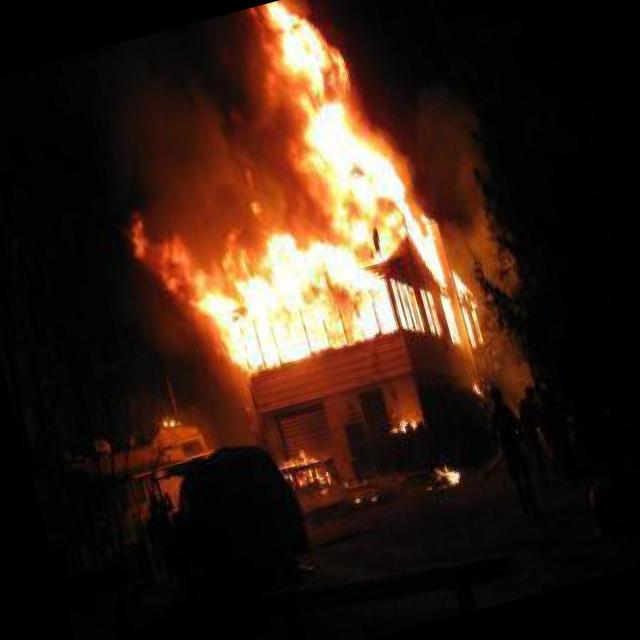Fire: (116, 0, 467, 391), (276, 443, 338, 506), (384, 404, 423, 444), (433, 456, 469, 498), (155, 408, 193, 441)
